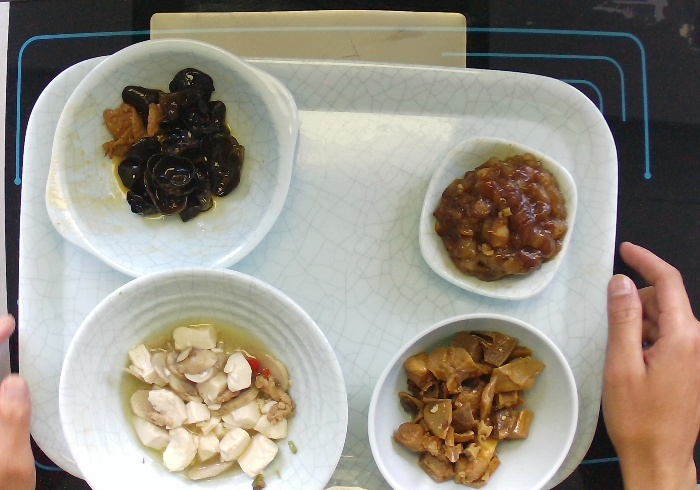JYsf-Fan_Wan: (365, 309, 583, 490)
JYsf-Shuang_Er_Wan: (39, 33, 303, 283)
JYsf-Si_Fang_Die: (415, 133, 582, 304)
JYsf-Xiao_Tang_Wan: (54, 261, 352, 490)
